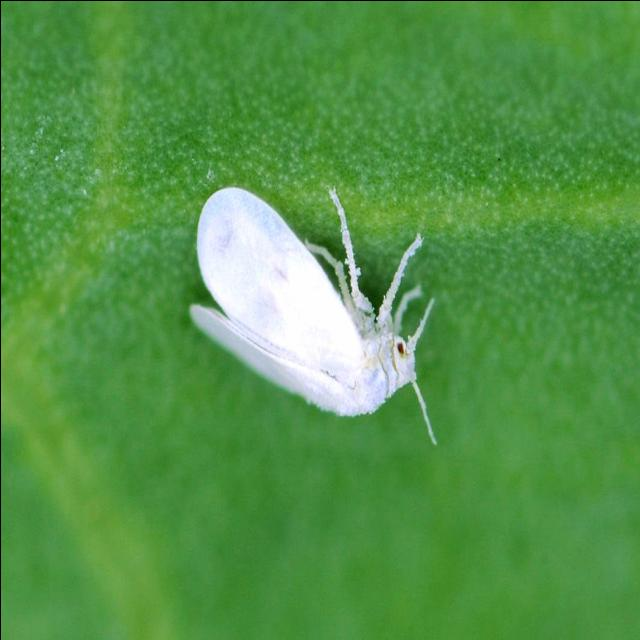whiteflies: (186, 178, 454, 462)
